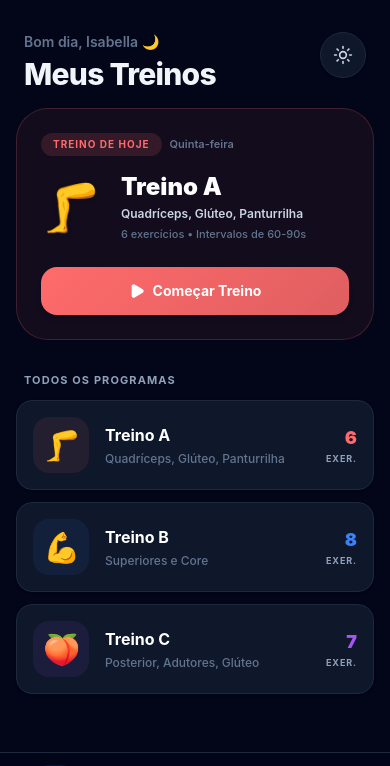
Scenario: App Input Validation › Weight input should filter validation natively and by React
The width and height of the screenshot is (390, 766).
Click the text "Treino A" below "Quinta" at (171, 186), box [121, 172, 222, 201]
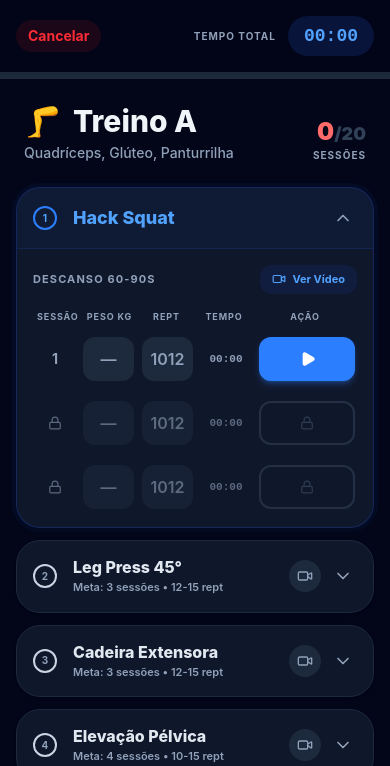
Type "12.5" into the 1st number field with placeholder "—" at (108, 359), box [83, 337, 134, 381]
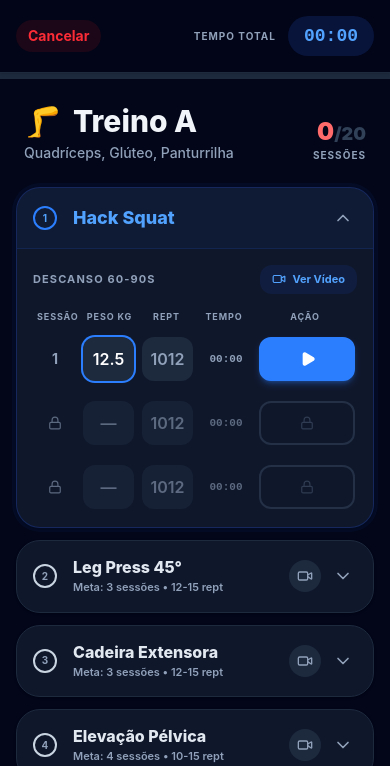
Replace the text in the number field with placeholder "—" with "12a3" at (108, 359), box [83, 337, 134, 381]
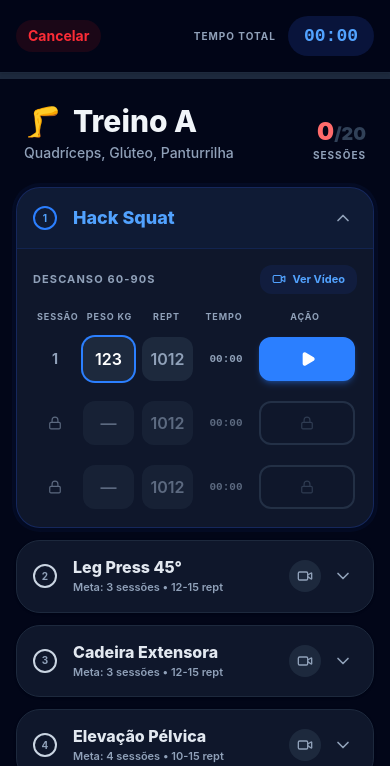
Expected: the number field with placeholder "—" holds "123", [83, 337, 134, 381]
